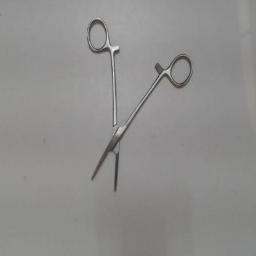Mayo Needle Holder: (83, 14, 197, 198)
